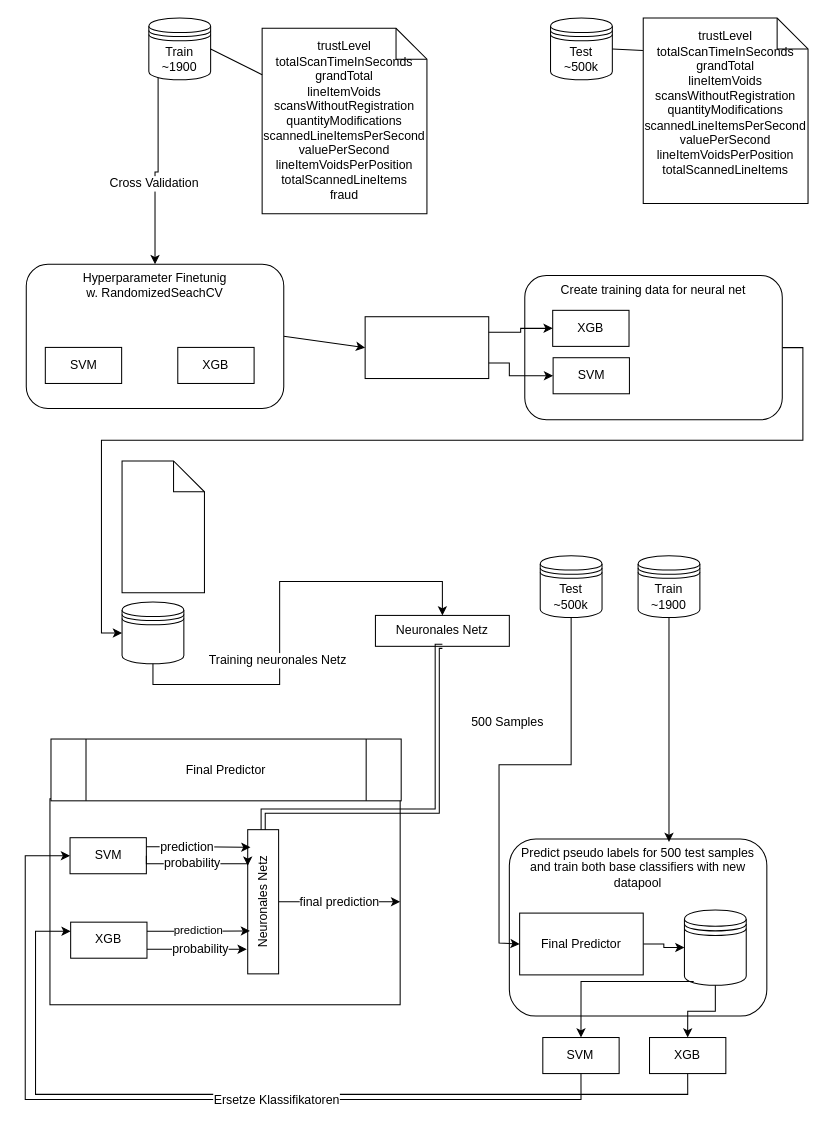
Some shapes in this 829 by 1126 pixel diagram are drawn without their labels. The centre of each missing label's shape, as x and y in pixels:
"Best Parameters" belongs at point 426,347.
"Train + 500 PL-test" belongs at point 714,947.
"Train NN ~1900" belongs at point 152,632.
"xgb_pred xgb_prob lsvm_pred lsvm_prob fraud" belongs at point 162,526.
